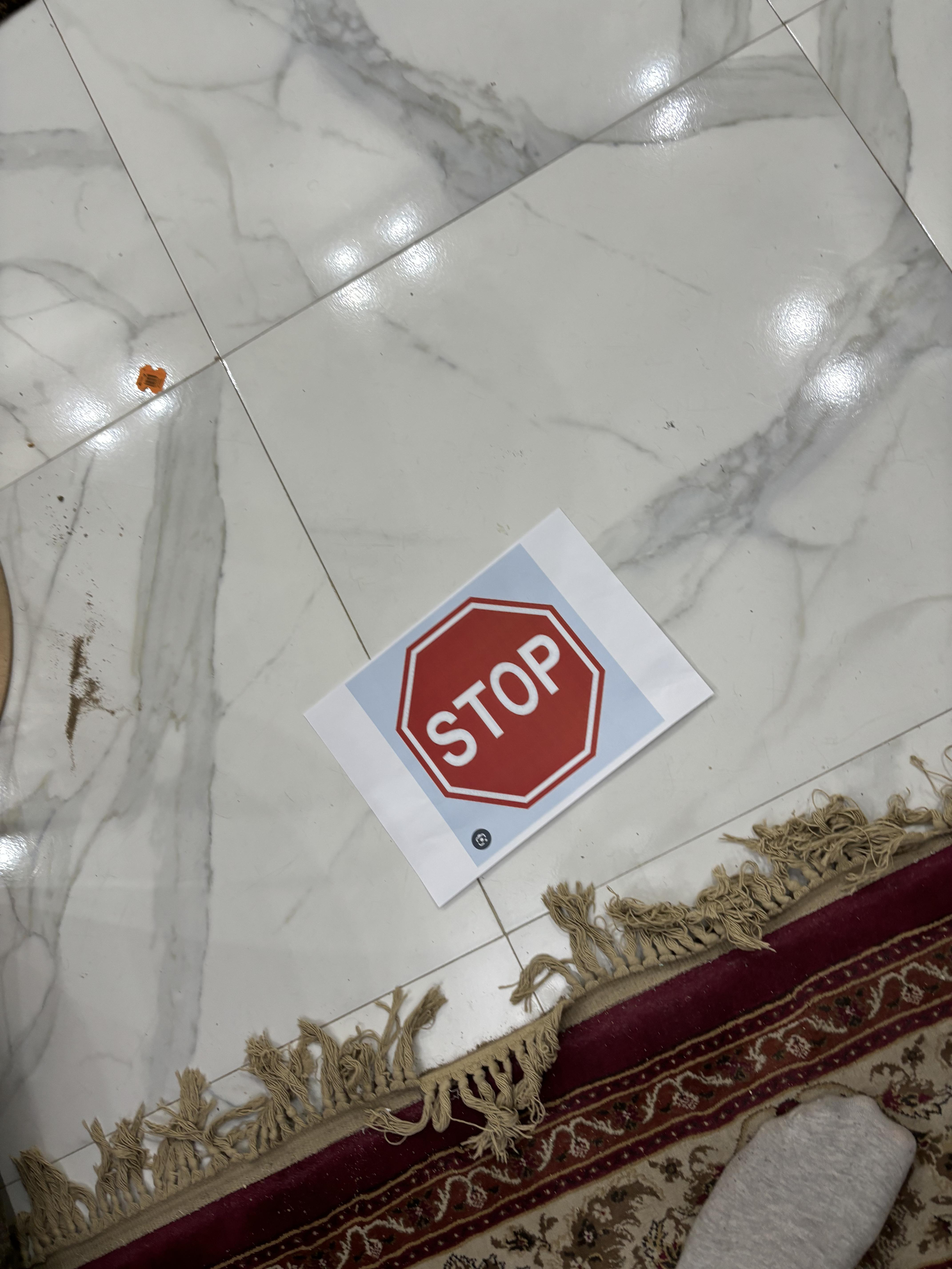Stop: (396, 594, 605, 799)
